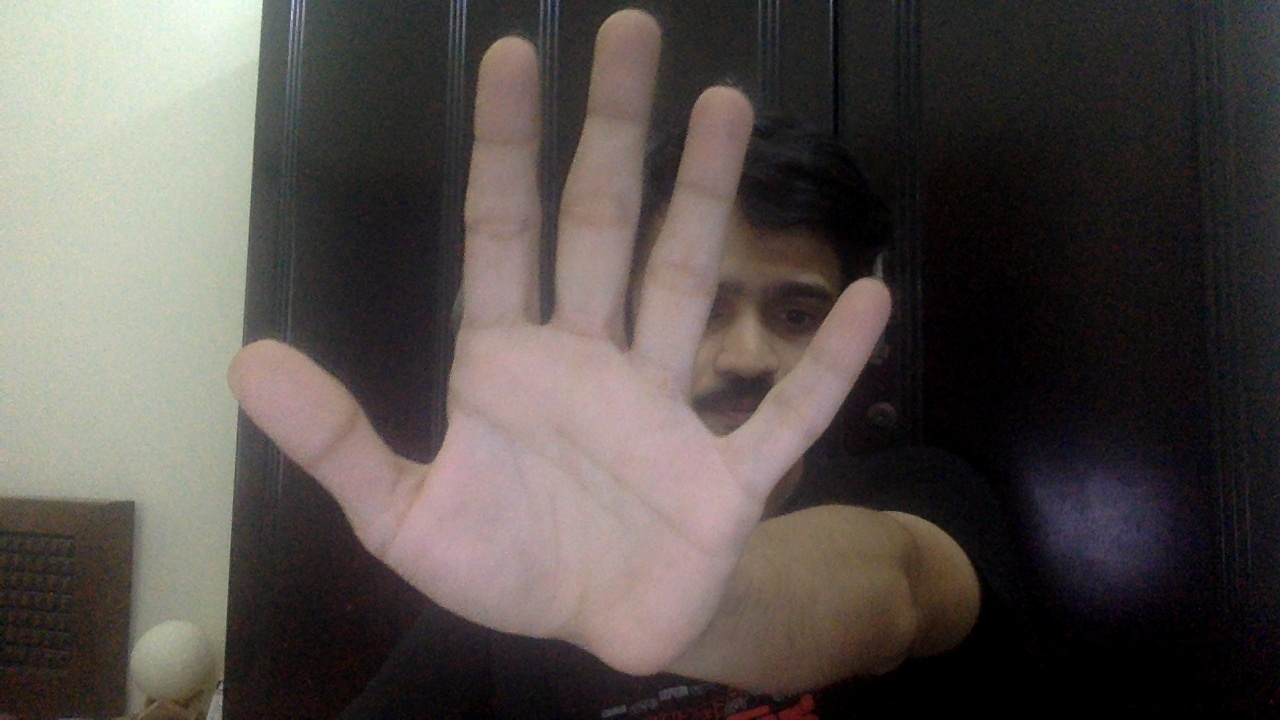stop: (233, 7, 893, 679)
